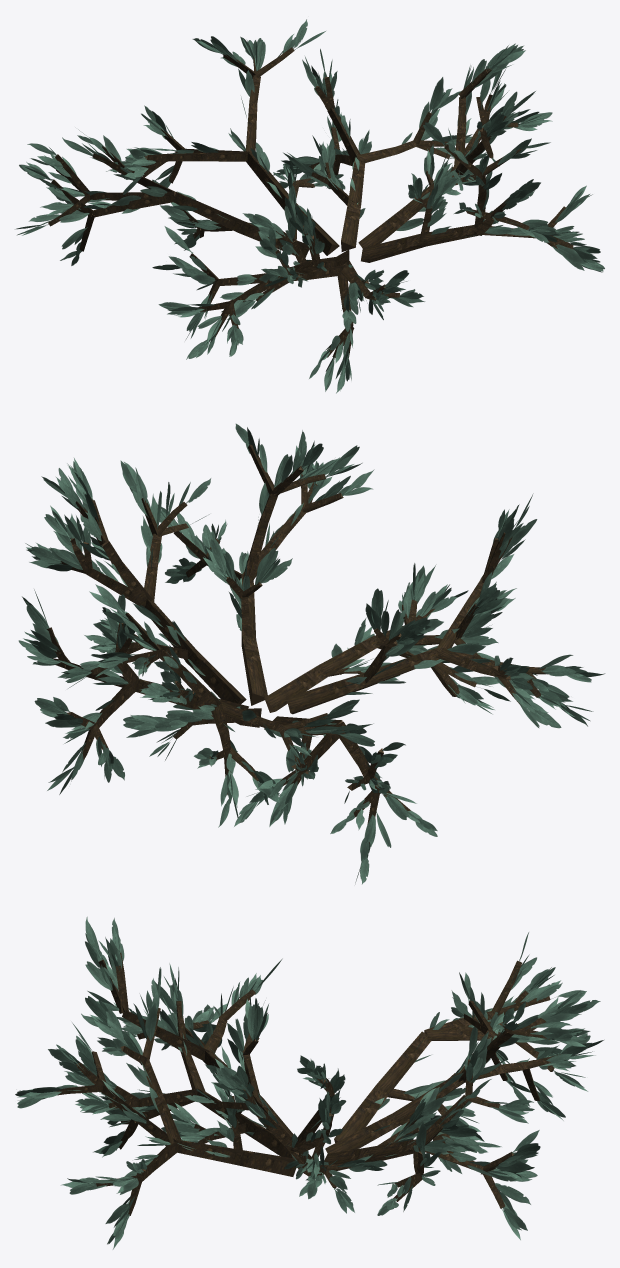
Rendered from juniper_low_v01_LOD1.glb.
The picture shows the model from 3 angles, top to bottom: view 1: azimuth 30°, elevation 25°; view 2: azimuth 150°, elevation 25°; view 3: azimuth 270°, elevation 25°; orthographic projection. The views are drawn at different scales.
Visible parts, largest first — view 1: juniper_low_v01_LOD1; view 2: juniper_low_v01_LOD1; view 3: juniper_low_v01_LOD1.
Part boxes in pixels (<box>): juniper_low_v01_LOD1: <box>15,19,604,393</box>; juniper_low_v01_LOD1: <box>18,423,605,884</box>; juniper_low_v01_LOD1: <box>15,916,603,1249</box>.
Size of the model in its own units: 1.05 by 0.5008 by 1.06.
Materials: 2 (2 with a texture image).
